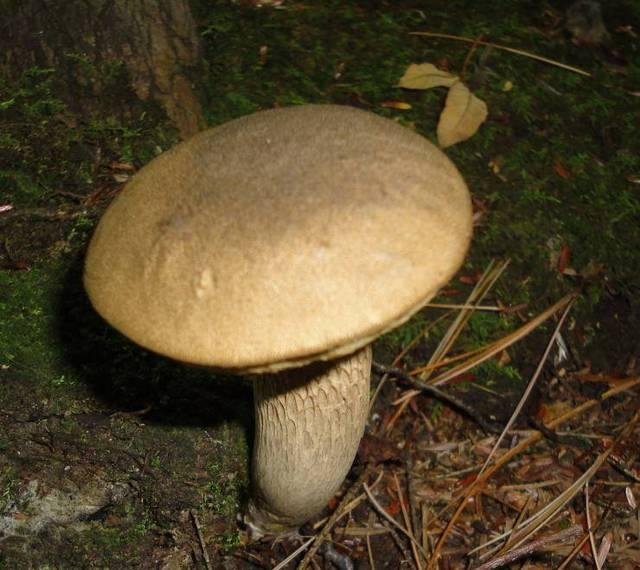Non-edible Mushroom: (80, 101, 474, 540)
